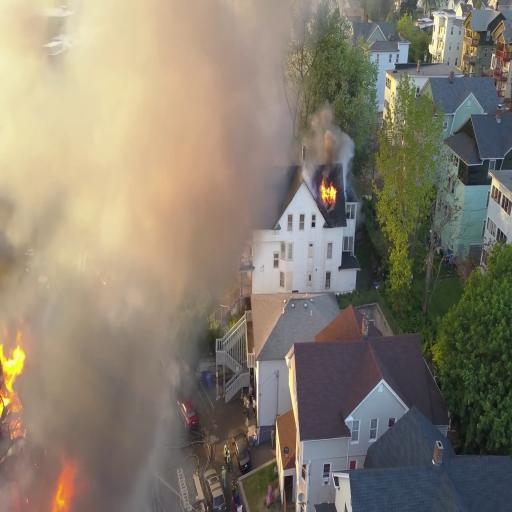fire: (0, 328, 31, 428), (322, 174, 340, 211)
smoke: (38, 22, 182, 430)
